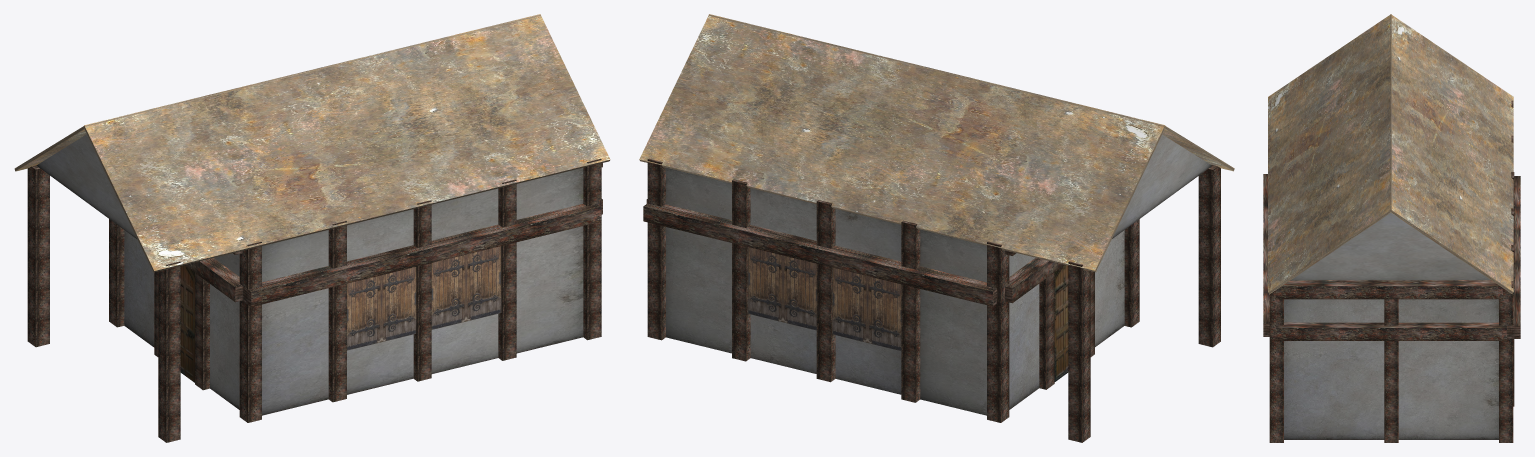
The model's file is House3.FBX.
3 views of the same model, side by side, from view 1: azimuth 30°, elevation 25°; view 2: azimuth 150°, elevation 25°; view 3: azimuth 270°, elevation 25° (orthographic). The views are drawn at different scales.
Visible parts, largest first — view 1: Roof002, Base, WoodenBeam014, HatchWindowLeft (×2), HatchWindowRight (×2), WoodenPillar020, WoodenPillar019, WoodenPillar002, Prism1, WoodenPillar003, WoodenPillar010, WoodenPillar011 (+6 smaller); view 2: Roof1, Base, WoodenBeam015, HatchWindowRight (×2), HatchWindowLeft (×2), WoodenPillar019, WoodenPillar020, WoodenPillar001, Prism1, WoodenPillar018, WoodenPillar004, WoodenPillar017 (+6 smaller); view 3: Base, Roof002, Roof1, Prism1, WoodenBeam011, r, WoodenPillar003, WoodenPillar004, WoodenPillar009, WoodenBeam015, WoodenBeam014.
Part boxes in pixels (box(x1,y1,x2,y2)): Roof002: box(83, 14, 610, 272); Base: box(124, 168, 583, 415); WoodenBeam014: box(243, 204, 601, 306); HatchWindowLeft (×2): box(381, 246, 501, 342); HatchWindowRight (×2): box(347, 254, 465, 350); WoodenPillar020: box(27, 165, 49, 347); WoodenPillar019: box(158, 261, 180, 442); WoodenPillar002: box(239, 241, 261, 422); Prism1: box(36, 134, 136, 238); WoodenPillar003: box(583, 158, 601, 340); WoodenPillar010: box(328, 221, 346, 402); WoodenPillar011: box(498, 179, 516, 360); Roof1: box(639, 14, 1165, 272); Base: box(666, 167, 1124, 415); WoodenBeam015: box(643, 203, 996, 306); HatchWindowRight (×2): box(747, 247, 867, 342); HatchWindowLeft (×2): box(783, 255, 901, 350); WoodenPillar019: box(1198, 165, 1220, 347); WoodenPillar020: box(1068, 261, 1090, 442); WoodenPillar001: box(987, 241, 1009, 422); Prism1: box(1112, 134, 1211, 238); WoodenPillar018: box(901, 220, 920, 402); WoodenPillar004: box(647, 158, 665, 340); WoodenPillar017: box(816, 200, 835, 382); Base: box(1284, 299, 1498, 439); Roof002: box(1268, 14, 1392, 293); Roof1: box(1389, 14, 1513, 293); Prism1: box(1291, 213, 1490, 280); WoodenBeam011: box(1275, 280, 1502, 299); r: box(1275, 322, 1506, 340); WoodenPillar003: box(1269, 281, 1283, 442); WoodenPillar004: box(1499, 281, 1513, 442); WoodenPillar009: box(1384, 299, 1398, 442); WoodenBeam015: box(1506, 176, 1520, 338); WoodenBeam014: box(1263, 174, 1269, 336).
Size of the model in its own units: 80.61 by 45.61 by 44.91.
